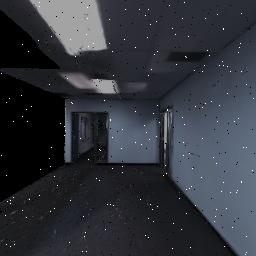door-frame: (70, 109, 112, 165), (155, 106, 182, 178)
